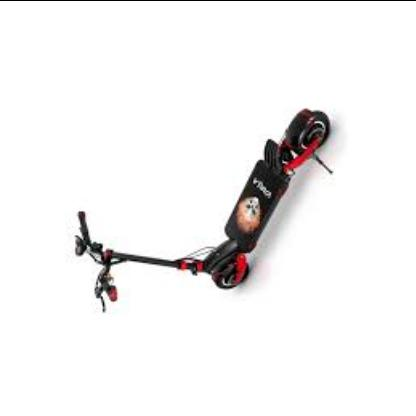bike: (75, 108, 333, 312)
